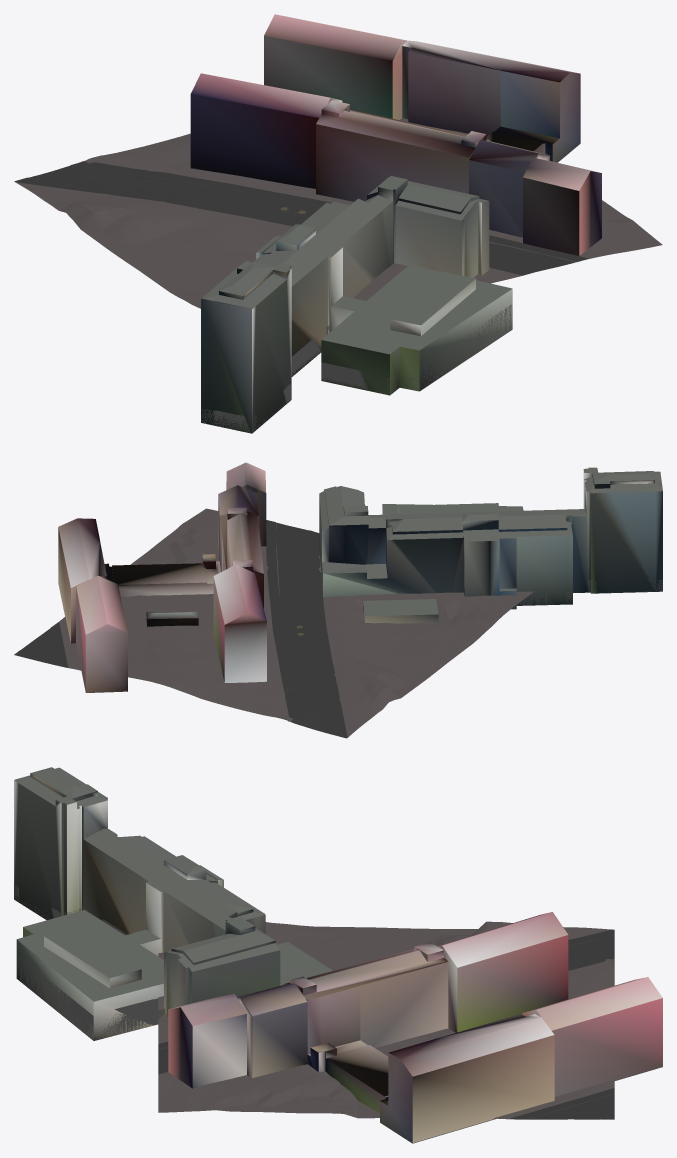
3 views of the same model, one above another, from view 1: azimuth 30°, elevation 25°; view 2: azimuth 150°, elevation 25°; view 3: azimuth 270°, elevation 25° (orthographic). The views are drawn at different scales.
Visible parts, largest first — view 1: c_m13_m11; view 2: c_m13_m11; view 3: c_m13_m11.
Part boxes in pixels (x1,y1,x2,y2): c_m13_m11: [14, 14, 662, 433]; c_m13_m11: [14, 462, 662, 738]; c_m13_m11: [14, 767, 662, 1143].
Bounding box in the file's own units: 175 × 40.22 × 182.
